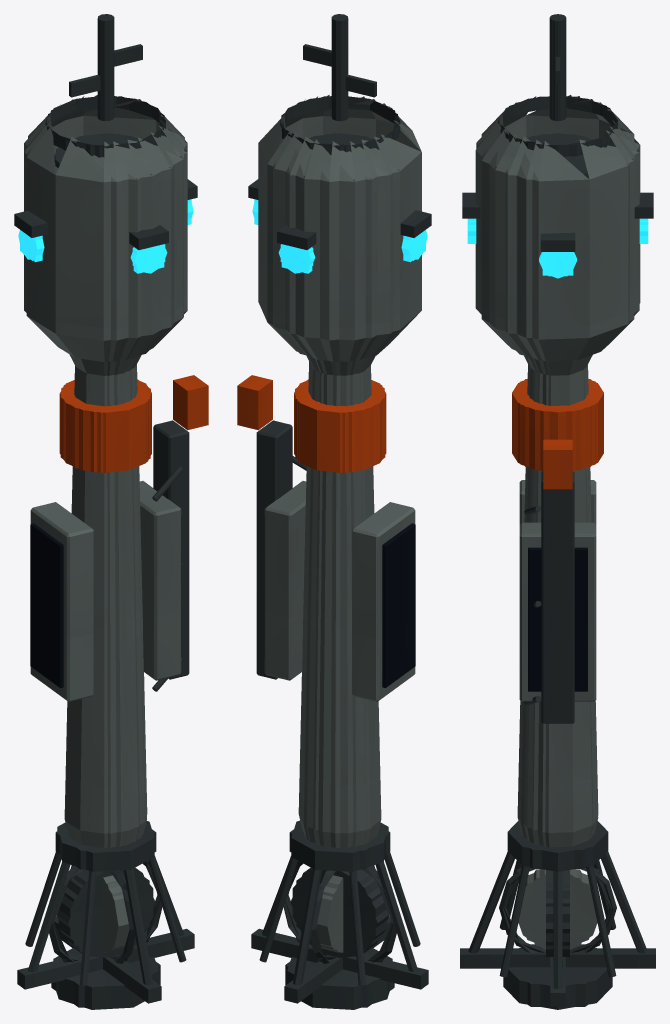
File: place_nav_buoy_v4.glb
3 views of the same model, side by side, from view 1: azimuth 30°, elevation 25°; view 2: azimuth 150°, elevation 25°; view 3: azimuth 270°, elevation 25° (orthographic).
Visible parts, largest first — view 1: LOD0_Buoy_Pressure_Shell, LOD0_Buoy_Stabilizer_Frame, LOD1_Buoy_Pressure_Shell, LOD2_Buoy_Pressure_Shell, LOD1_Buoy_Stabilizer_Frame, LOD0_Buoy_Service_Marking, LOD1_Buoy_Solar_Cell, LOD1_Buoy_Service_Marking, LOD0_Buoy_Solar_Cell, LOD2_Buoy_Stabilizer_Frame, LOD2_Buoy_Service_Marking, LOD0_Buoy_Nav_Optic (+1 smaller); view 2: LOD0_Buoy_Pressure_Shell, LOD1_Buoy_Pressure_Shell, LOD0_Buoy_Stabilizer_Frame, LOD2_Buoy_Pressure_Shell, LOD1_Buoy_Stabilizer_Frame, LOD0_Buoy_Service_Marking, LOD0_Buoy_Solar_Cell, LOD1_Buoy_Service_Marking, LOD2_Buoy_Stabilizer_Frame, LOD1_Buoy_Solar_Cell, LOD2_Buoy_Service_Marking, LOD0_Buoy_Nav_Optic (+1 smaller); view 3: LOD0_Buoy_Pressure_Shell, LOD0_Buoy_Stabilizer_Frame, LOD1_Buoy_Pressure_Shell, LOD2_Buoy_Pressure_Shell, LOD1_Buoy_Stabilizer_Frame, LOD0_Buoy_Service_Marking, LOD0_Buoy_Solar_Cell, LOD1_Buoy_Service_Marking, LOD2_Buoy_Service_Marking, LOD2_Buoy_Stabilizer_Frame, LOD0_Buoy_Nav_Optic, LOD1_Buoy_Solar_Cell.
Boxes of the visible parts, box(x1,y1,x2,y2) form: LOD0_Buoy_Pressure_Shell: box(26, 99, 184, 952); LOD0_Buoy_Stabilizer_Frame: box(14, 14, 197, 1009); LOD1_Buoy_Pressure_Shell: box(24, 95, 187, 949); LOD2_Buoy_Pressure_Shell: box(24, 96, 187, 952); LOD1_Buoy_Stabilizer_Frame: box(26, 14, 189, 1007); LOD0_Buoy_Service_Marking: box(59, 379, 190, 472); LOD1_Buoy_Solar_Cell: box(30, 517, 181, 687); LOD1_Buoy_Service_Marking: box(60, 379, 207, 472); LOD0_Buoy_Solar_Cell: box(30, 523, 63, 687); LOD2_Buoy_Stabilizer_Frame: box(48, 17, 163, 968); LOD2_Buoy_Service_Marking: box(61, 375, 208, 472); LOD0_Buoy_Nav_Optic: box(18, 202, 193, 273); LOD0_Buoy_Pressure_Shell: box(258, 95, 421, 952); LOD1_Buoy_Pressure_Shell: box(264, 99, 415, 949); LOD0_Buoy_Stabilizer_Frame: box(248, 14, 431, 1009); LOD2_Buoy_Pressure_Shell: box(278, 96, 421, 952); LOD1_Buoy_Stabilizer_Frame: box(256, 14, 419, 1007); LOD0_Buoy_Service_Marking: box(263, 379, 386, 472); LOD0_Buoy_Solar_Cell: box(382, 523, 415, 687); LOD1_Buoy_Service_Marking: box(238, 379, 385, 472); LOD2_Buoy_Stabilizer_Frame: box(282, 15, 397, 954); LOD1_Buoy_Solar_Cell: box(264, 517, 415, 687); LOD2_Buoy_Service_Marking: box(237, 375, 384, 472); LOD0_Buoy_Nav_Optic: box(252, 202, 427, 273); LOD0_Buoy_Pressure_Shell: box(475, 95, 640, 949); LOD0_Buoy_Stabilizer_Frame: box(460, 14, 655, 1009); LOD1_Buoy_Pressure_Shell: box(481, 96, 634, 945); LOD2_Buoy_Pressure_Shell: box(476, 96, 639, 946); LOD1_Buoy_Stabilizer_Frame: box(498, 14, 617, 1006); LOD0_Buoy_Service_Marking: box(512, 381, 603, 487); LOD0_Buoy_Solar_Cell: box(529, 547, 586, 691); LOD1_Buoy_Service_Marking: box(520, 380, 603, 488); LOD2_Buoy_Service_Marking: box(512, 379, 603, 489); LOD2_Buoy_Stabilizer_Frame: box(498, 16, 617, 983); LOD0_Buoy_Nav_Optic: box(467, 225, 648, 278); LOD1_Buoy_Solar_Cell: box(528, 547, 587, 691).
Bounding box in the file's own units: 2.97 × 15.3 × 2.8.
Materials: 5 (5 with a texture image).
